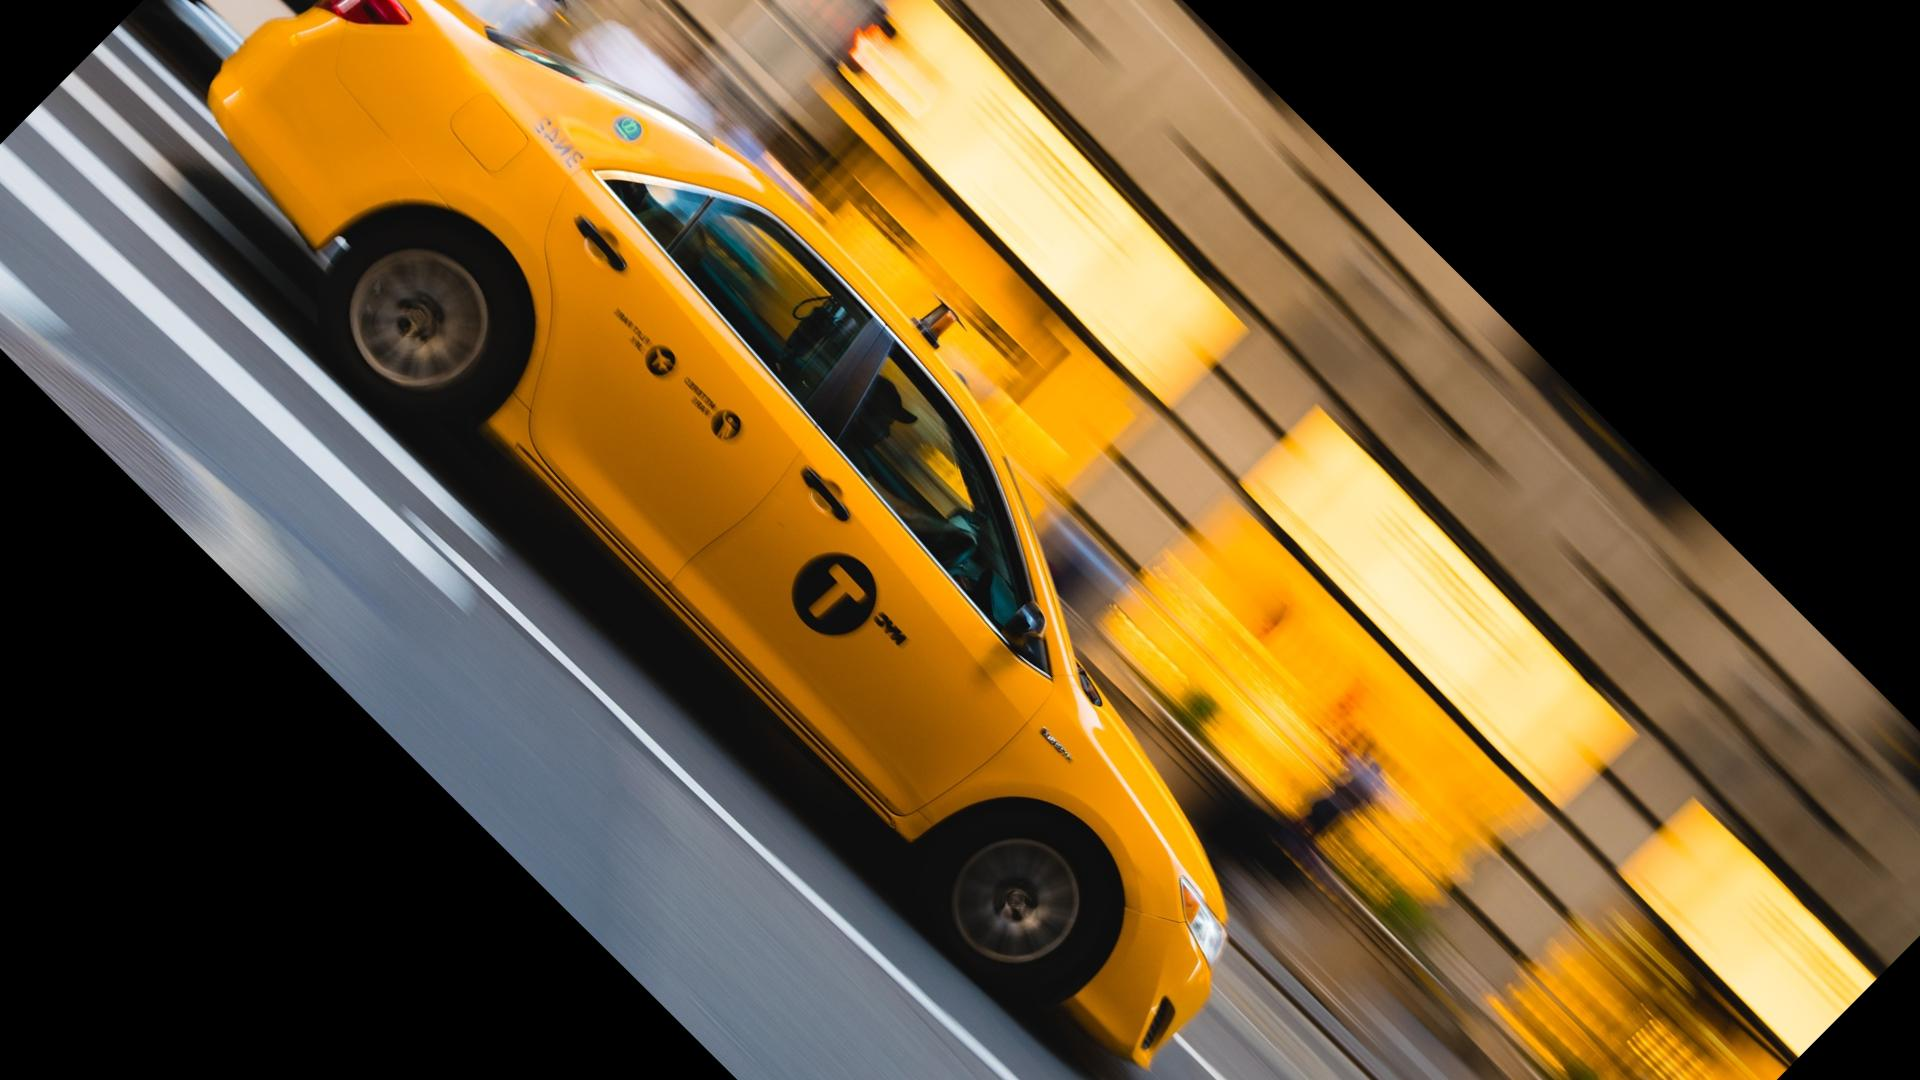taxi: (164, 1, 1193, 1076)
